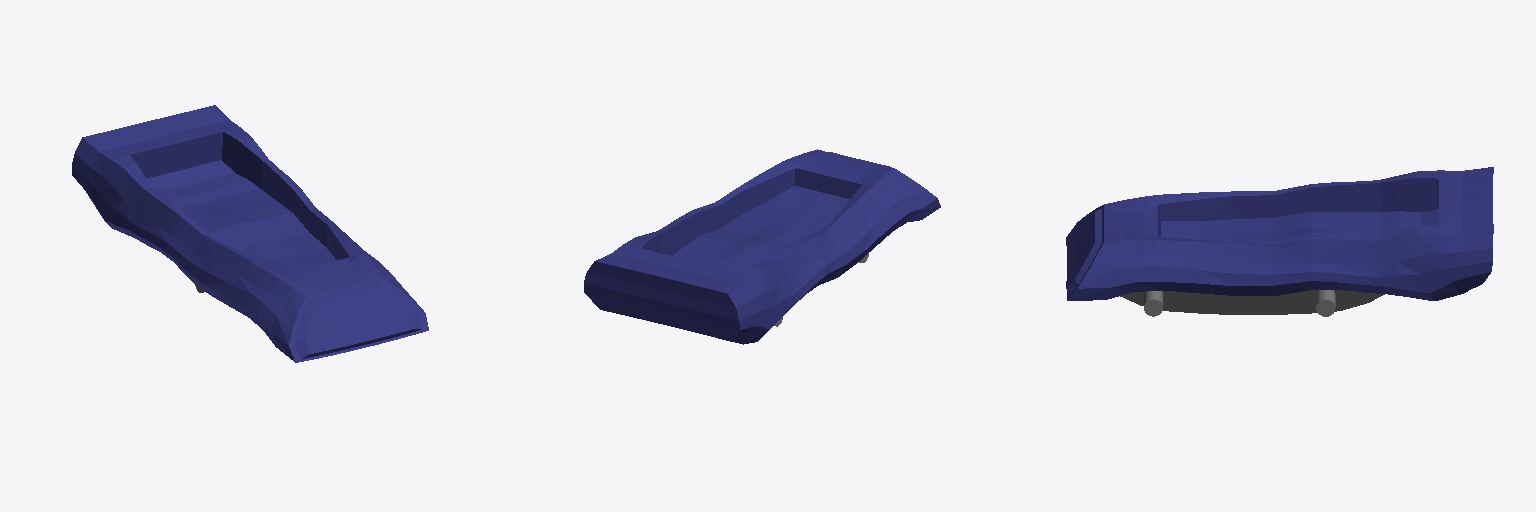
Rendered from basic_bot.obj.
3 renders of one model, left to right at view 1: azimuth 30°, elevation 25°; view 2: azimuth 150°, elevation 25°; view 3: azimuth 270°, elevation 25°, orthographic.
Visible parts, largest first — view 1: main_body basic_bot; view 2: main_body basic_bot; view 3: main_body basic_bot, basic_bot under_body.
Part boxes in pixels (x1,y1,x2,y2): main_body basic_bot: (72, 105, 428, 362); main_body basic_bot: (584, 149, 940, 344); main_body basic_bot: (1066, 167, 1493, 300); basic_bot under_body: (1120, 290, 1384, 314).
Bounding box in the file's own units: 2.55 × 1.79 × 6.07.